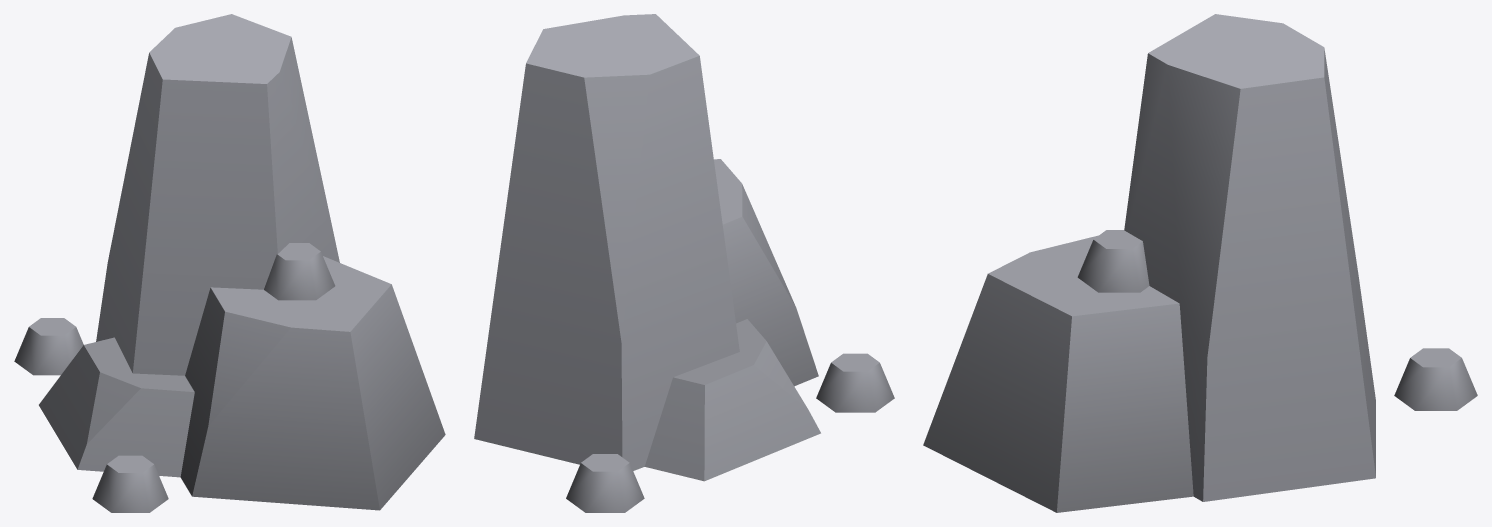
The model's file is rock-small.glb.
3 renders of one model, left to right at view 1: azimuth 30°, elevation 25°; view 2: azimuth 150°, elevation 25°; view 3: azimuth 270°, elevation 25°, orthographic. The views are drawn at different scales.
Parts seen in each view (by area): view 1: rock-small; view 2: rock-small; view 3: rock-small.
Boxes of the visible parts, left/top/right/bottom form: rock-small: left=14, top=14, right=445, bottom=512; rock-small: left=474, top=14, right=894, bottom=512; rock-small: left=923, top=14, right=1477, bottom=512.
Bounding box in the file's own units: 0.9983 × 1.02 × 1.33.
1 material, 1 textured.
